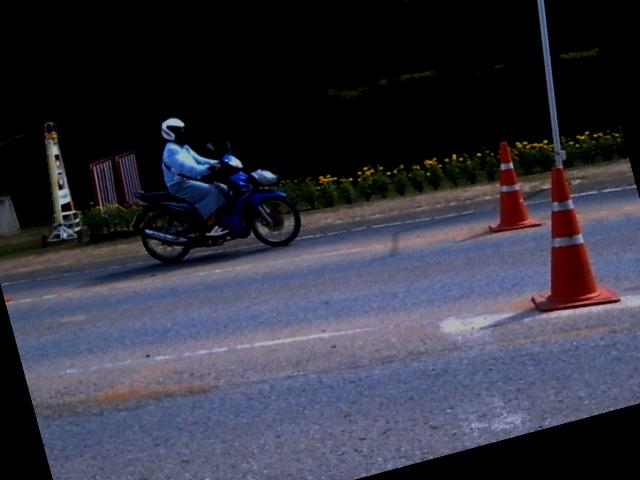helmet: (160, 113, 185, 142)
motor: (132, 141, 300, 262)
person: (160, 116, 226, 235)
